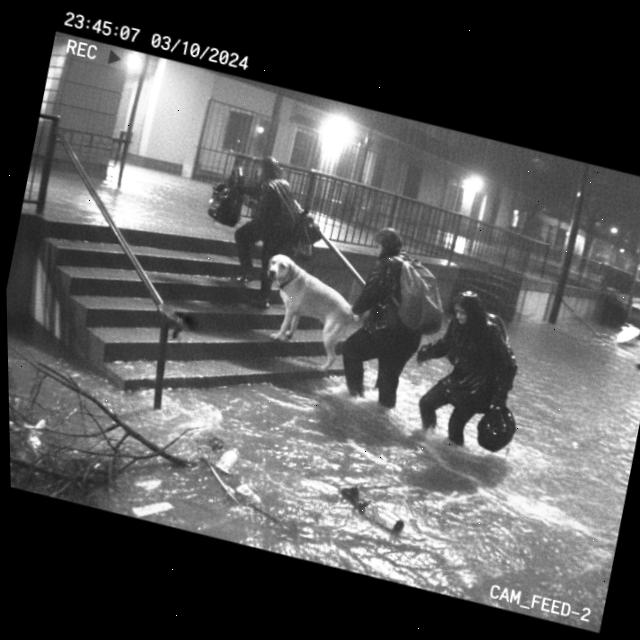civilian: (316, 206, 465, 428), (398, 266, 550, 470), (208, 144, 321, 315)
dog: (232, 235, 375, 379)
